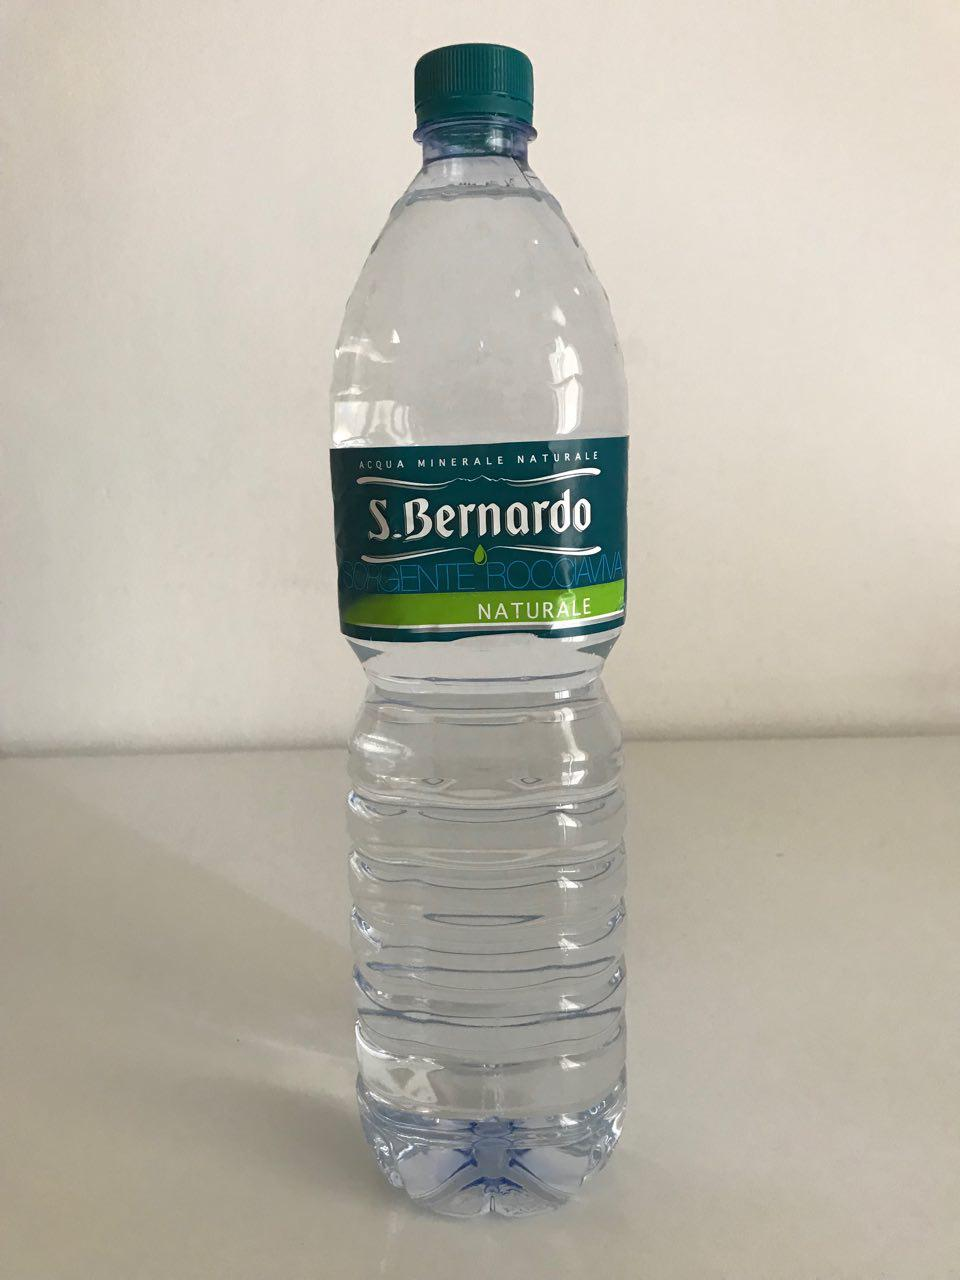san_bernardo: (324, 41, 629, 1224)
